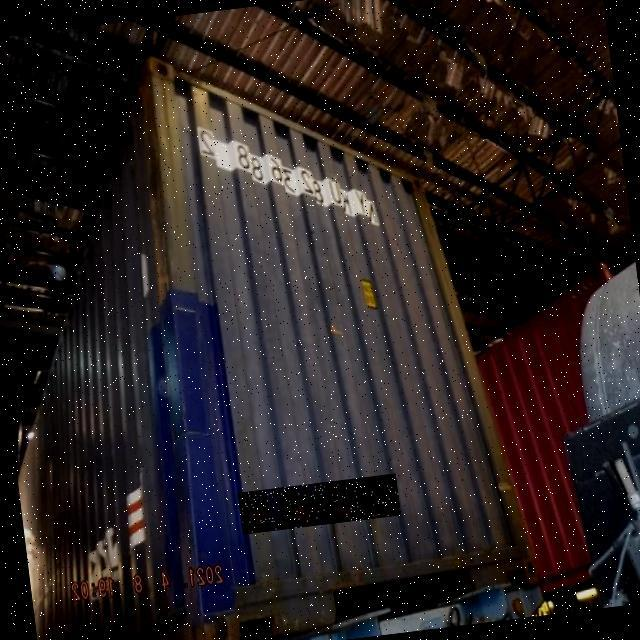Minor-Dent: (238, 473, 401, 534)
